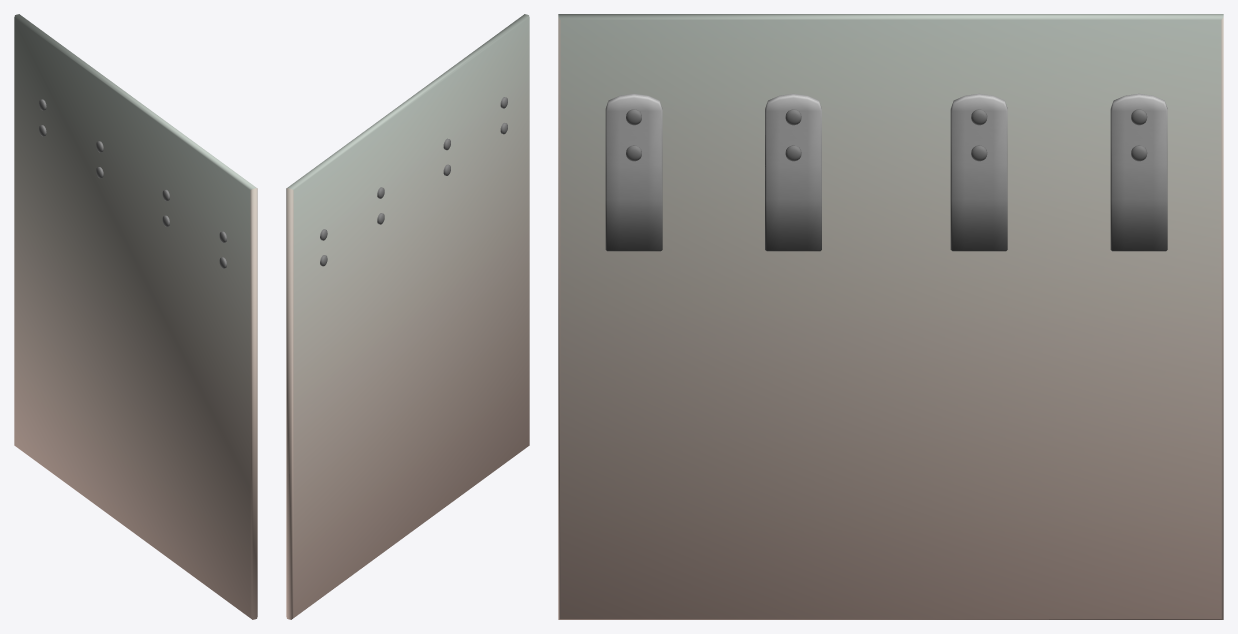
The model's file is seinä.fbx.
3 views of the same model, side by side, from view 1: azimuth 30°, elevation 25°; view 2: azimuth 150°, elevation 25°; view 3: azimuth 270°, elevation 25° (orthographic). The views are drawn at different scales.
Parts seen in each view (by area): view 1: seinä; view 2: seinä; view 3: seinä.
Part boxes in pixels (left/top/right/bottom): seinä: left=14, top=14, right=257, bottom=619; seinä: left=286, top=14, right=529, bottom=619; seinä: left=558, top=14, right=1223, bottom=619.
Size of the model in its own units: 12.51 by 200 by 200.
Materials: 1 (1 with a texture image).
